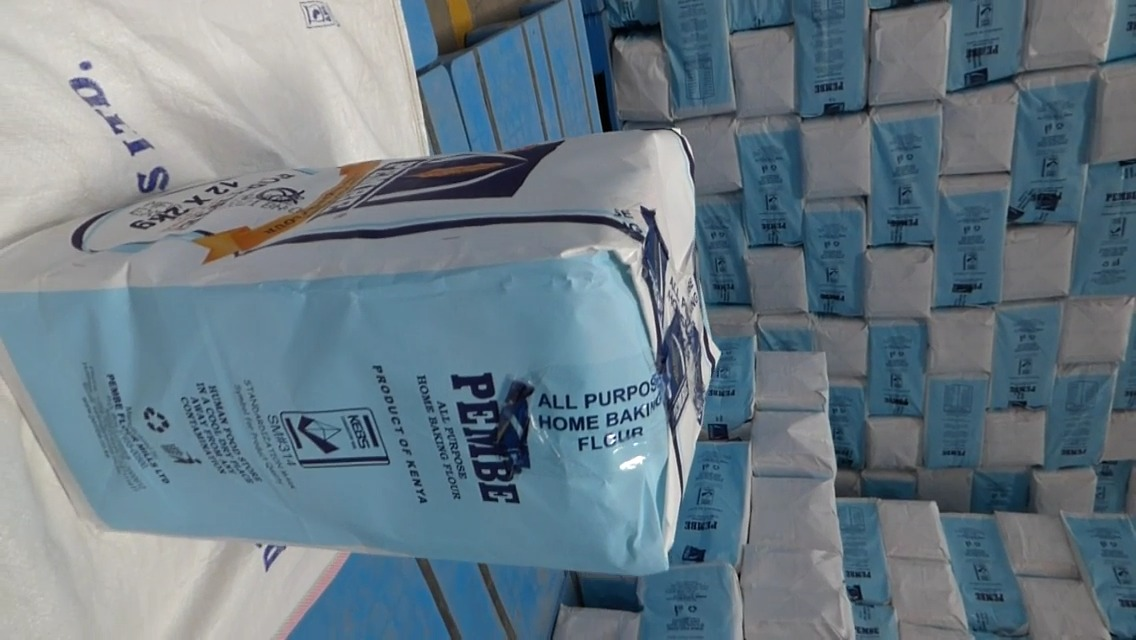wheat_flour_blue_label: (2, 137, 721, 562)
